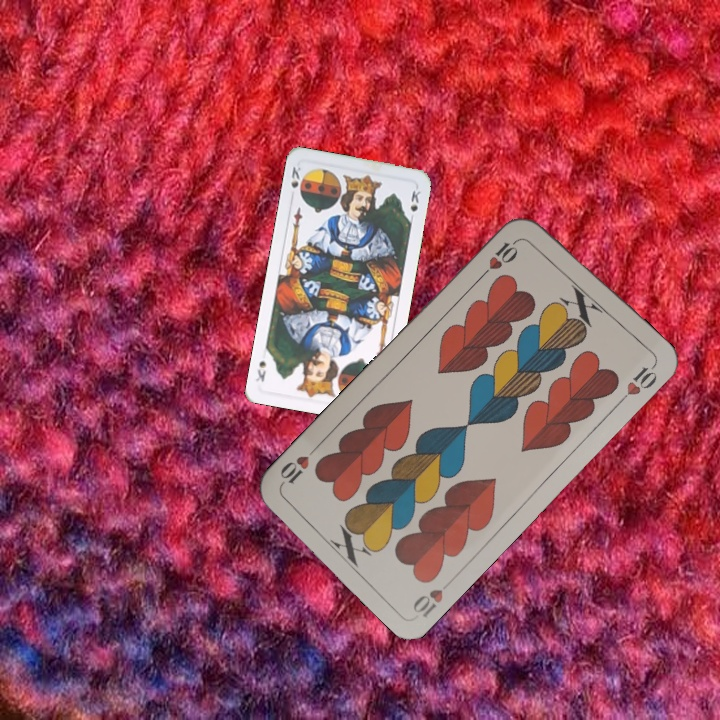H10: (477, 234, 524, 280), (408, 584, 446, 621)
SK: (287, 161, 306, 198)
